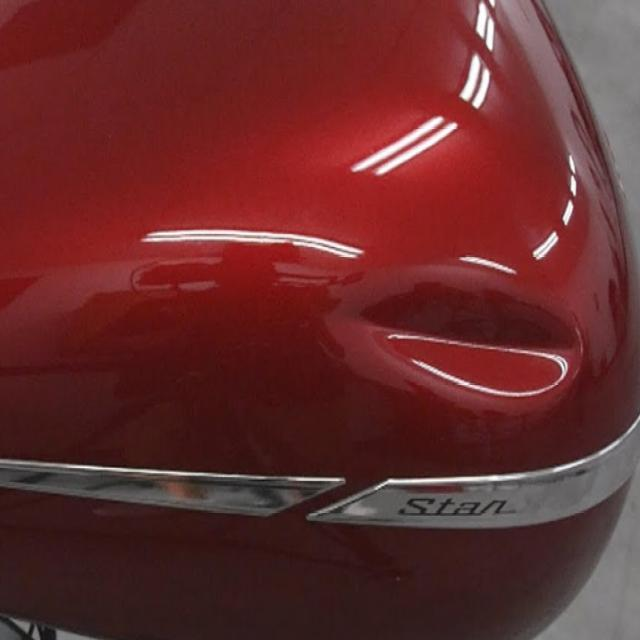dents: (327, 272, 590, 431)
